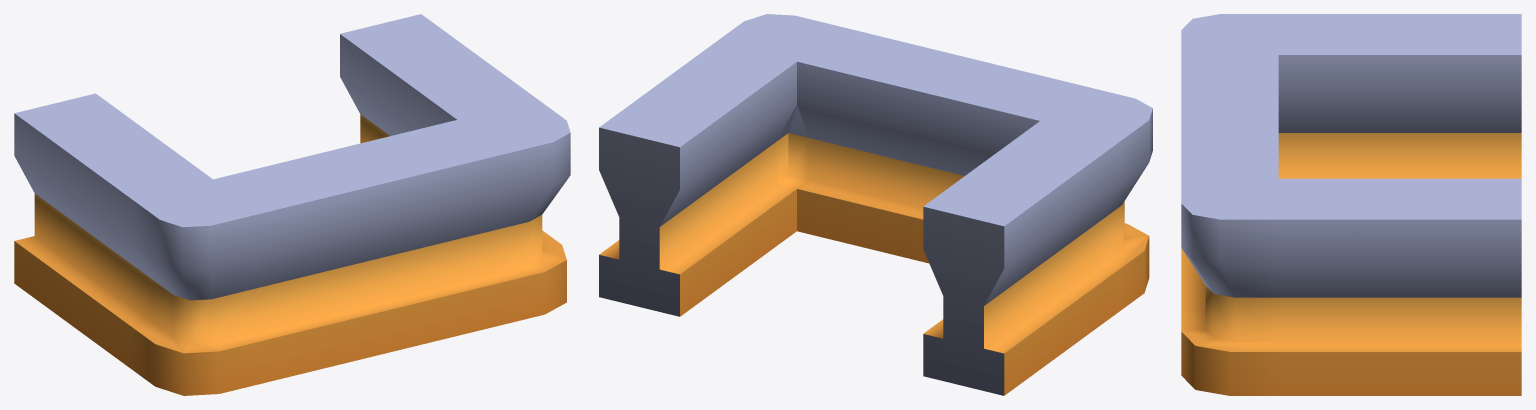
The model's file is kenney-space-station-balcony-rail.glb.
3 views of the same model, side by side, from view 1: azimuth 30°, elevation 25°; view 2: azimuth 150°, elevation 25°; view 3: azimuth 270°, elevation 25° (orthographic). The views are drawn at different scales.
Visible parts, largest first — view 1: balcony-rail; view 2: balcony-rail; view 3: balcony-rail.
Boxes of the visible parts, box(x1,y1,x2,y2) form: balcony-rail: box(14, 14, 570, 395); balcony-rail: box(599, 14, 1152, 395); balcony-rail: box(1181, 14, 1521, 395).
Size of the model in its own units: 1 by 0.3999 by 0.7.
Materials: 1 (1 with a texture image).
